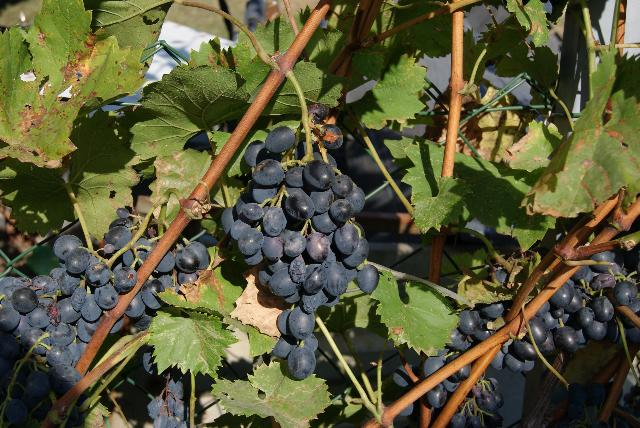grapes: (221, 126, 379, 379), (0, 210, 152, 425), (491, 251, 640, 372), (125, 241, 210, 320), (422, 302, 506, 378)
